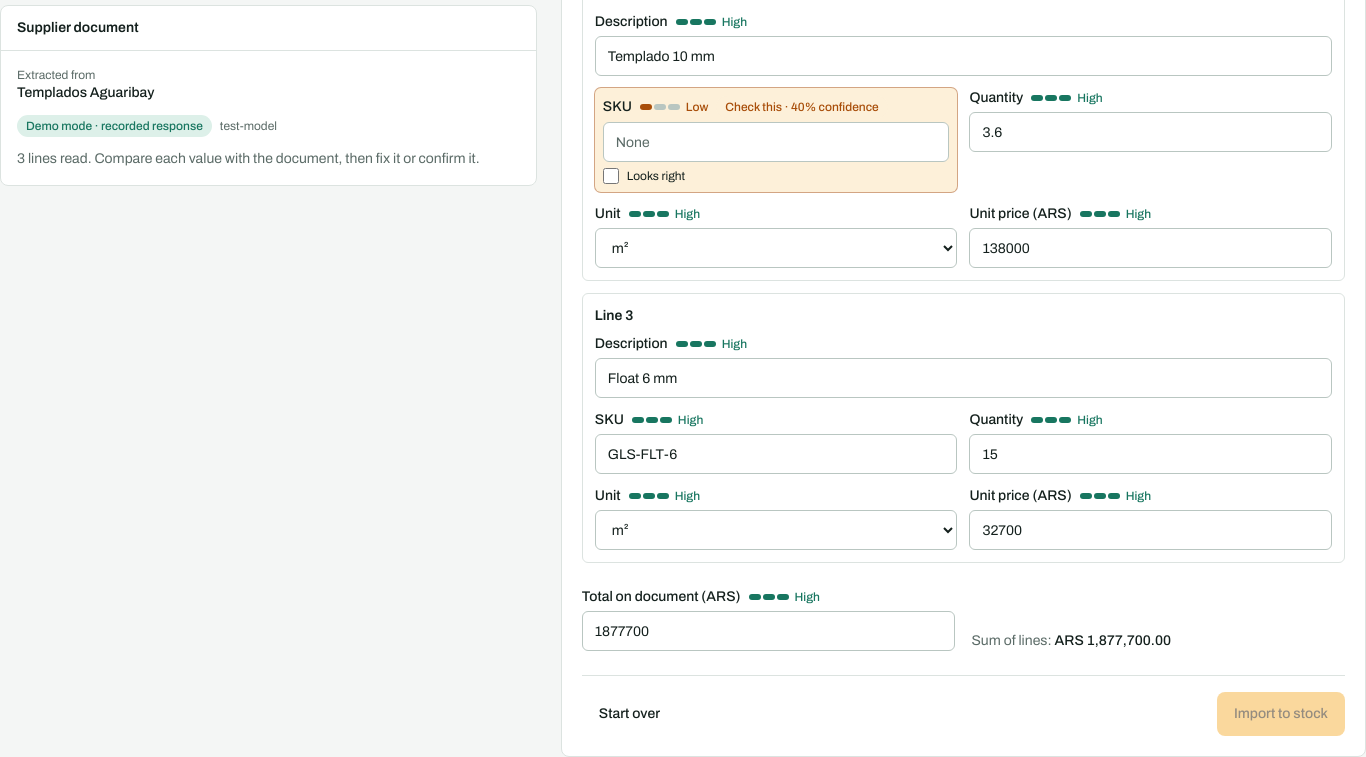
it: ReviewForm › warns when the lines do not add up to the printed total
The image size is (1366, 757).
(page scrolled)
Replace the text in the field labelled "Total on document (ARS) High" with "100": (769, 631) [582, 611, 955, 651]
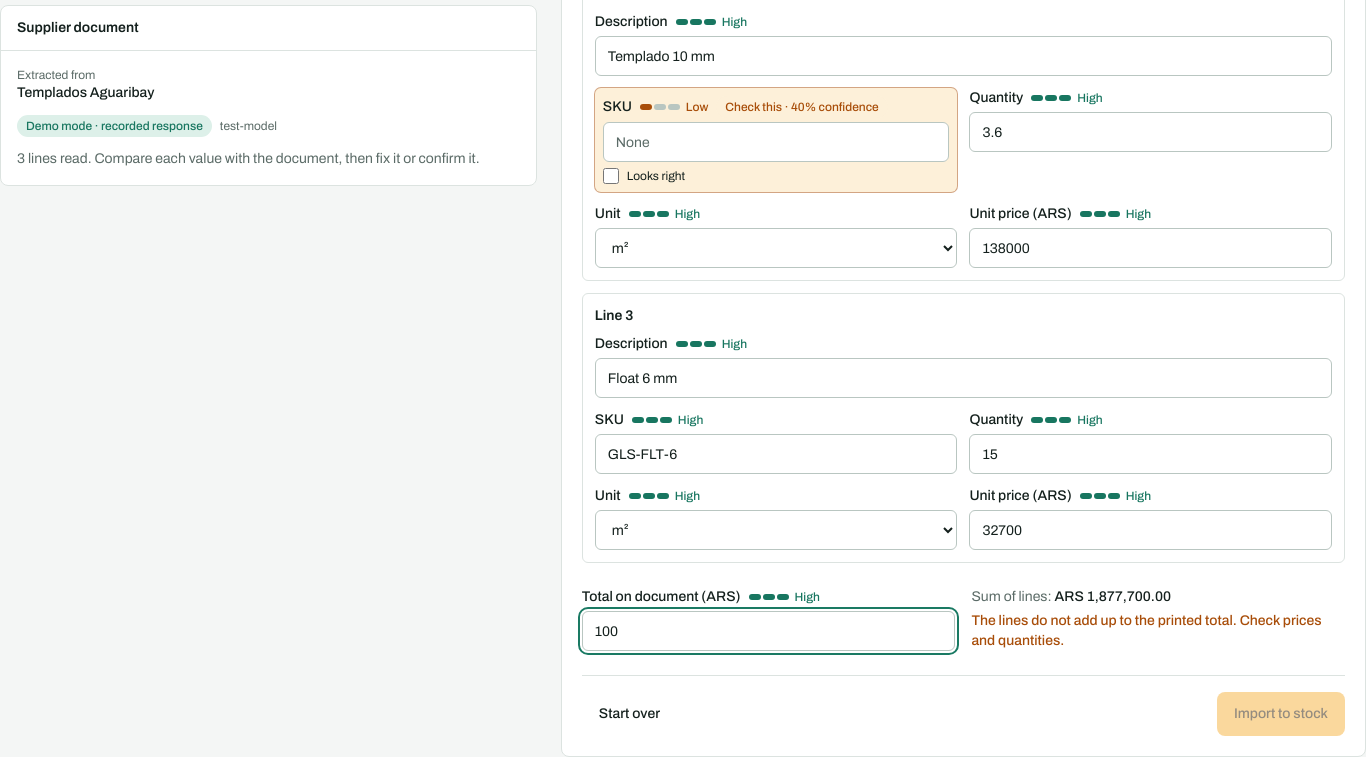
Now the text "do not add up to the printed total" is shown, box [971, 613, 1322, 648]
